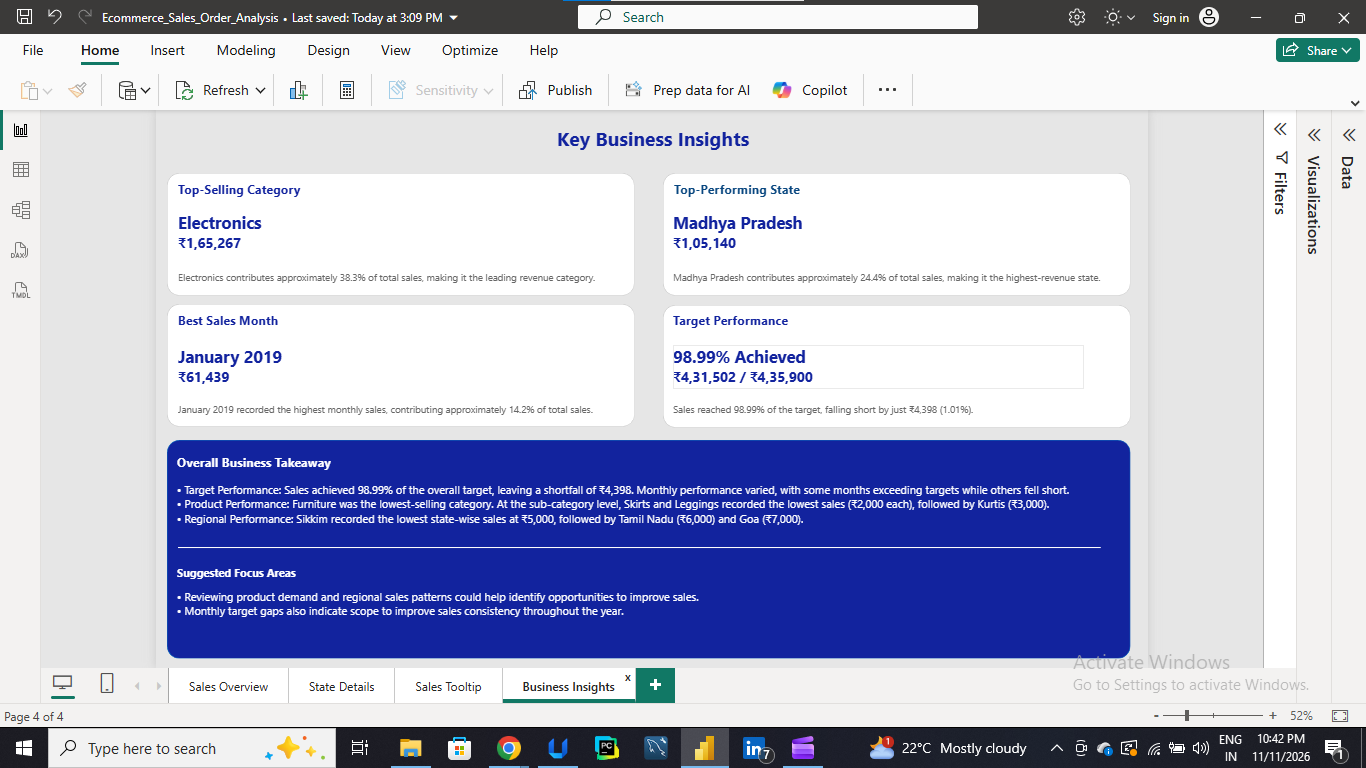

Layout of this report page (visuals, bound fields, positions):
{"tool":"powerbi","page":{"name":"Business Insights","canvas":[1920,1080],"ordinal":3},"visuals":[{"type":"textbox","box":[21.3,29.8,1881.5,72.3],"z":0},{"type":"shape","box":[21.4,122,905,237.6],"z":1000},{"type":"shape","box":[980.3,376.7,905.4,237.6],"z":2000},{"type":"shape","box":[21.3,376.3,905.4,237.6],"z":3000},{"type":"shape","box":[980.3,122,905,237.6],"z":4000},{"type":"textbox","box":[42.5,138.2,420.9,46.8],"z":5000},{"type":"textbox","box":[42.5,195.6,559.1,102],"z":6000},{"type":"textbox","box":[42.5,312.5,863.1,46.8],"z":7000},{"type":"textbox","box":[1001.7,138.3,523.3,46.7],"z":8000},{"type":"textbox","box":[41.7,391.7,275,50],"z":9000},{"type":"textbox","box":[1001.5,390.8,430.8,50.8],"z":10000},{"type":"textbox","box":[42.5,455,559.1,85],"z":11000},{"type":"textbox","box":[42.5,567.6,839.8,46.8],"z":12000},{"type":"textbox","box":[1001.3,195.6,712.2,102],"z":13000},{"type":"textbox","box":[1001.3,312.5,865.3,46.8],"z":14000},{"type":"textbox","box":[1001.5,455.4,795.4,84.6],"z":15000},{"type":"textbox","box":[1001.3,567.6,839.8,46.8],"z":16000},{"type":"shape","box":[21.5,638.5,1864.6,423.1],"z":17000},{"type":"textbox","box":[41.5,666.2,676.9,38.5],"z":18000},{"type":"textbox","box":[41.5,720,1800,298.5],"z":19000},{"type":"shape","box":[42.5,824.9,1786.2,44.6],"z":19001}]}

Visuals, with their boxes on the page's 1920x1080 design canvas (x1, y1, x2, y2). These are canvas units, not pixel positions in the 1366x768 screenshot, which may show the page scaled, cropped or inside an application window:
textbox: select_region(21, 30, 1903, 102)
shape: select_region(21, 122, 926, 360)
shape: select_region(980, 377, 1886, 614)
shape: select_region(21, 376, 927, 614)
shape: select_region(980, 122, 1885, 360)
textbox: select_region(42, 138, 463, 185)
textbox: select_region(42, 196, 602, 298)
textbox: select_region(42, 312, 906, 359)
textbox: select_region(1002, 138, 1525, 185)
textbox: select_region(42, 392, 317, 442)
textbox: select_region(1002, 391, 1432, 442)
textbox: select_region(42, 455, 602, 540)
textbox: select_region(42, 568, 882, 614)
textbox: select_region(1001, 196, 1714, 298)
textbox: select_region(1001, 312, 1867, 359)
textbox: select_region(1002, 455, 1797, 540)
textbox: select_region(1001, 568, 1841, 614)
shape: select_region(22, 638, 1886, 1062)
textbox: select_region(42, 666, 718, 705)
textbox: select_region(42, 720, 1842, 1018)
shape: select_region(42, 825, 1829, 870)
